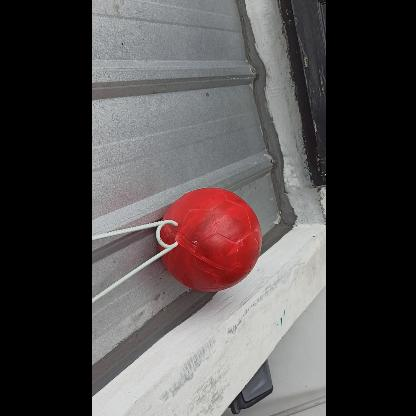red_ball: (160, 187, 262, 290)
